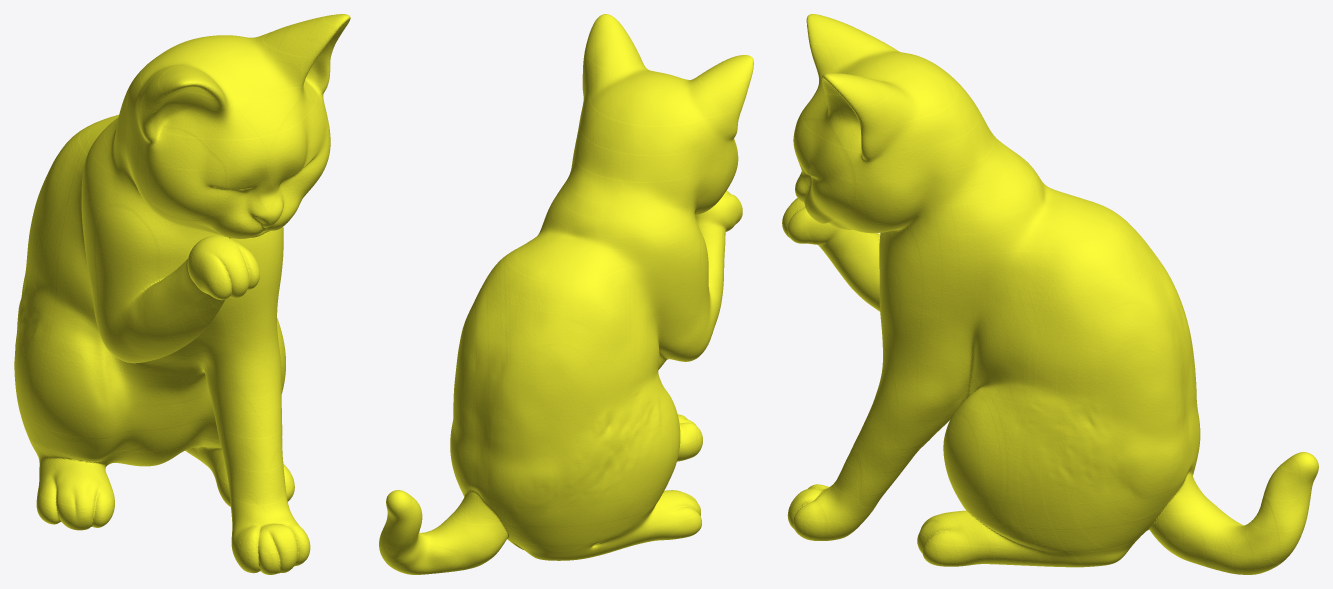
Rendered from black-cat.glb.
3 views of the same model, side by side, from view 1: azimuth 30°, elevation 25°; view 2: azimuth 150°, elevation 25°; view 3: azimuth 270°, elevation 25° (orthographic). The views are drawn at different scales.
Parts seen in each view (by area): view 1: cat-licking-paw-model.stl_A_fil1; view 2: cat-licking-paw-model.stl_A_fil1; view 3: cat-licking-paw-model.stl_A_fil1.
Boxes of the visible parts, x1,y1,x2,y2 form: cat-licking-paw-model.stl_A_fil1: (14, 14, 350, 574); cat-licking-paw-model.stl_A_fil1: (379, 14, 753, 574); cat-licking-paw-model.stl_A_fil1: (782, 14, 1318, 574).
Size of the model in its own units: 0.0387 by 0.0786 by 0.0782.
